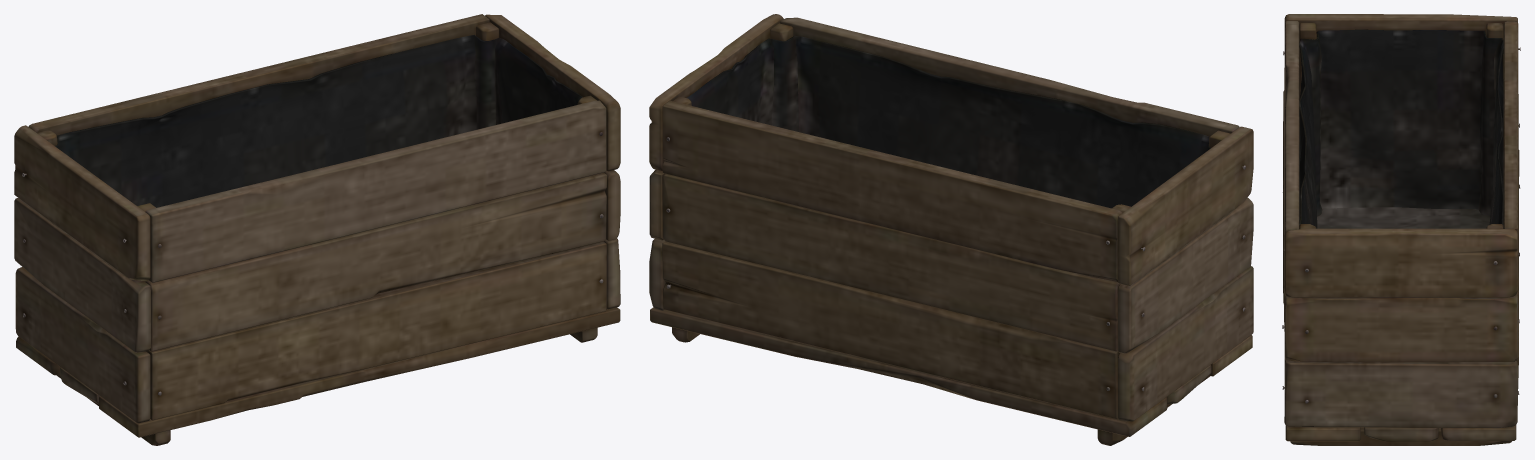
Rendered from planter-box-01.a2e4c23a.glb.
3 renders of one model, left to right at view 1: azimuth 30°, elevation 25°; view 2: azimuth 150°, elevation 25°; view 3: azimuth 270°, elevation 25°, orthographic. The views are drawn at different scales.
Visible parts, largest first — view 1: model; view 2: model; view 3: model.
Boxes of the visible parts, bbox=[...] form: model: bbox=[14, 14, 620, 445]; model: bbox=[649, 14, 1253, 445]; model: bbox=[1282, 14, 1520, 445].
Size of the model in its own units: 0.9126 by 0.425 by 0.4137.
Materials: 1 (1 with a texture image).
